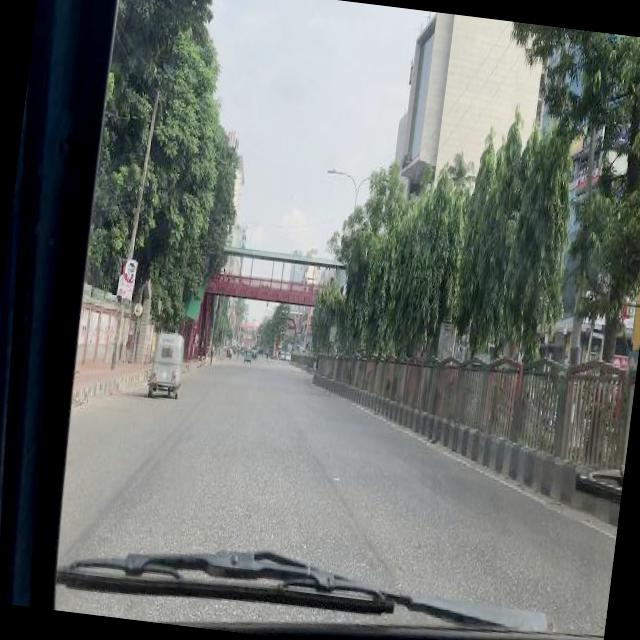bus: (283, 342, 291, 350)
car: (250, 348, 257, 356), (283, 351, 290, 359), (278, 351, 283, 356)
motorcycle: (144, 328, 186, 398), (243, 345, 250, 358)
